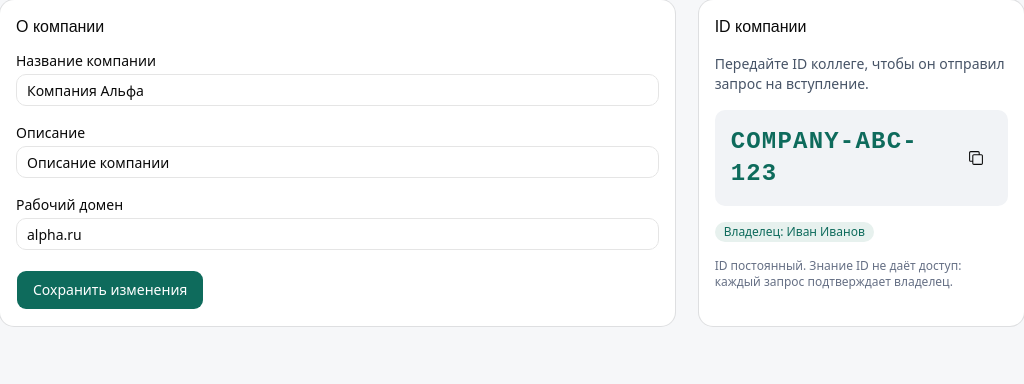
Test: CompanyProfileCard › показывает ошибку, если сервер не сохранил изменения
What coordinates should you click on to do the following:
click the button "Сохранить изменения"
I would click on:
 (110, 290)
Its box is [16,270,204,310].
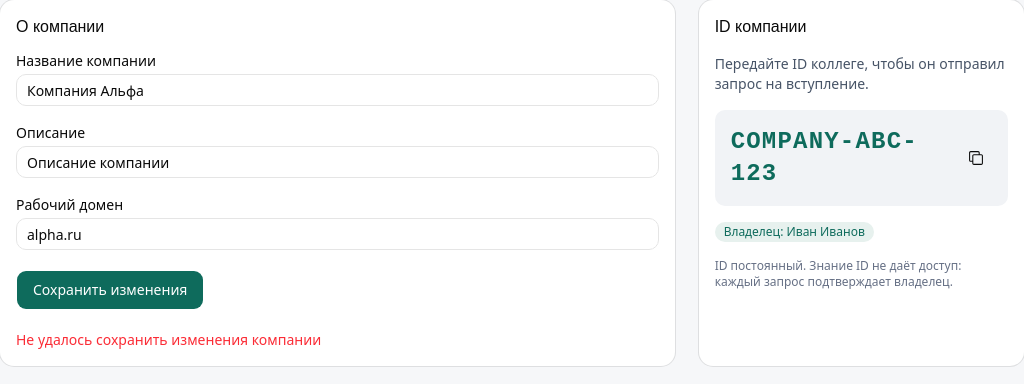
expect the text "Не удалось сохранить изменения компании" is shown: met, box [16,330,321,349]
